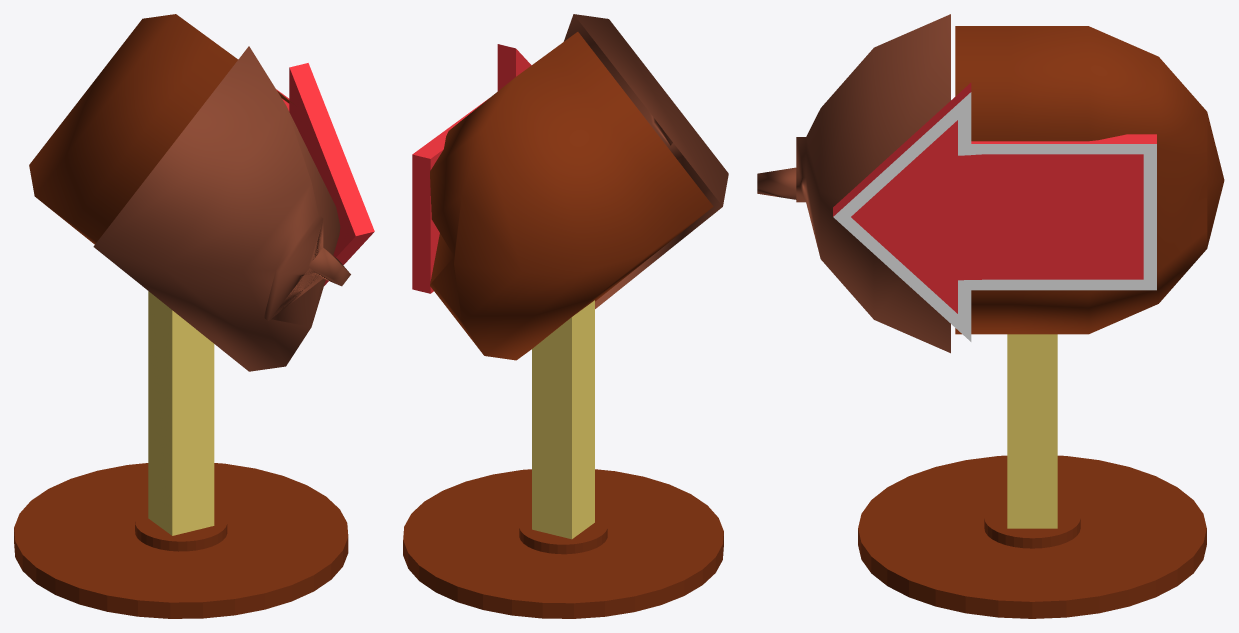
The model's file is dotoli_Sign02.fbx.
3 views of the same model, side by side, from view 1: azimuth 30°, elevation 25°; view 2: azimuth 150°, elevation 25°; view 3: azimuth 270°, elevation 25° (orthographic). The views are drawn at different scales.
Visible parts, largest first — view 1: Cube; view 2: Cube; view 3: Cube.
Boxes of the visible parts, <box> form: Cube: <box>14,14,374,618</box>; Cube: <box>403,14,728,618</box>; Cube: <box>757,14,1224,618</box>.
Bounding box in the file's own units: 200 × 345 × 268.
